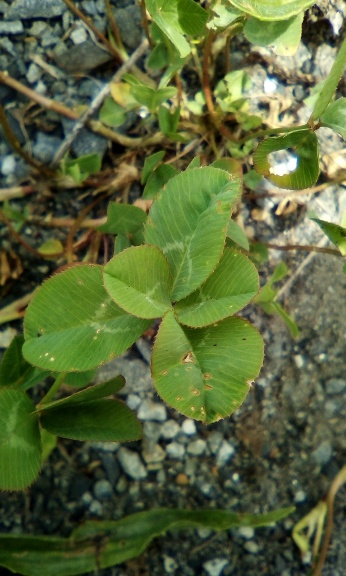4leaf: (22, 165, 265, 427)
